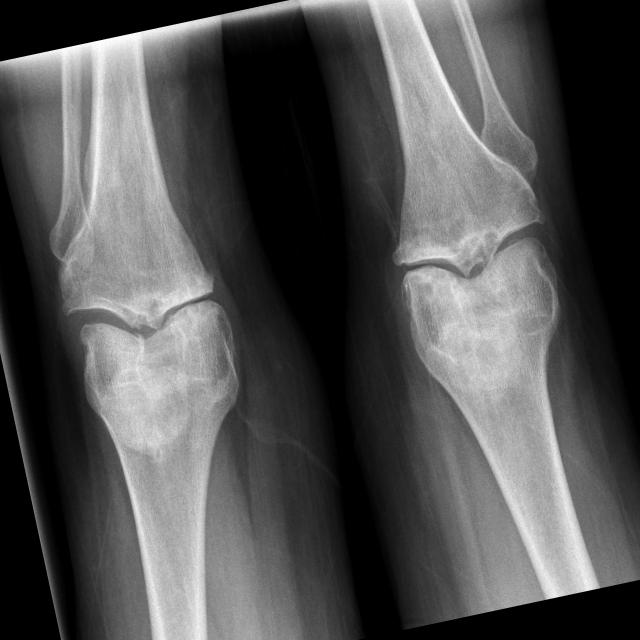Knee: (44, 220, 244, 410), (377, 172, 566, 348)
